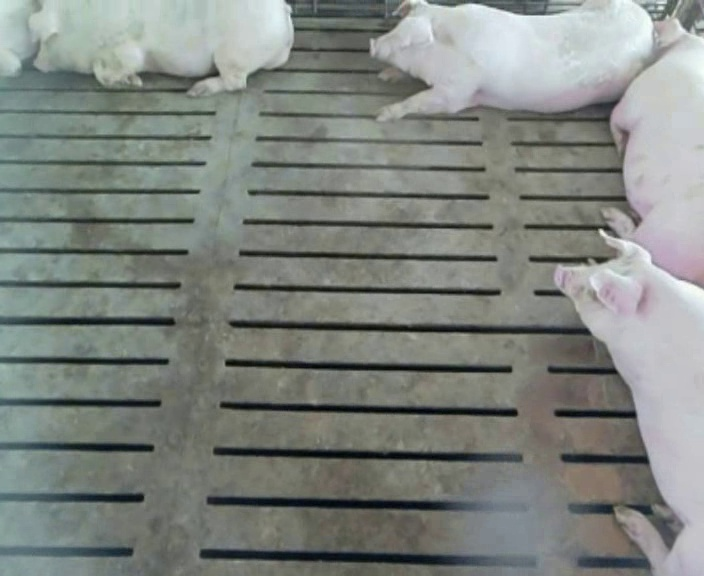pig: (554, 232, 703, 574), (370, 1, 653, 121), (603, 21, 703, 285), (29, 2, 293, 95)
